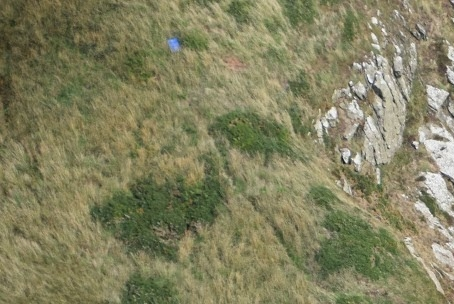white_in_green: (147, 22, 199, 63)
